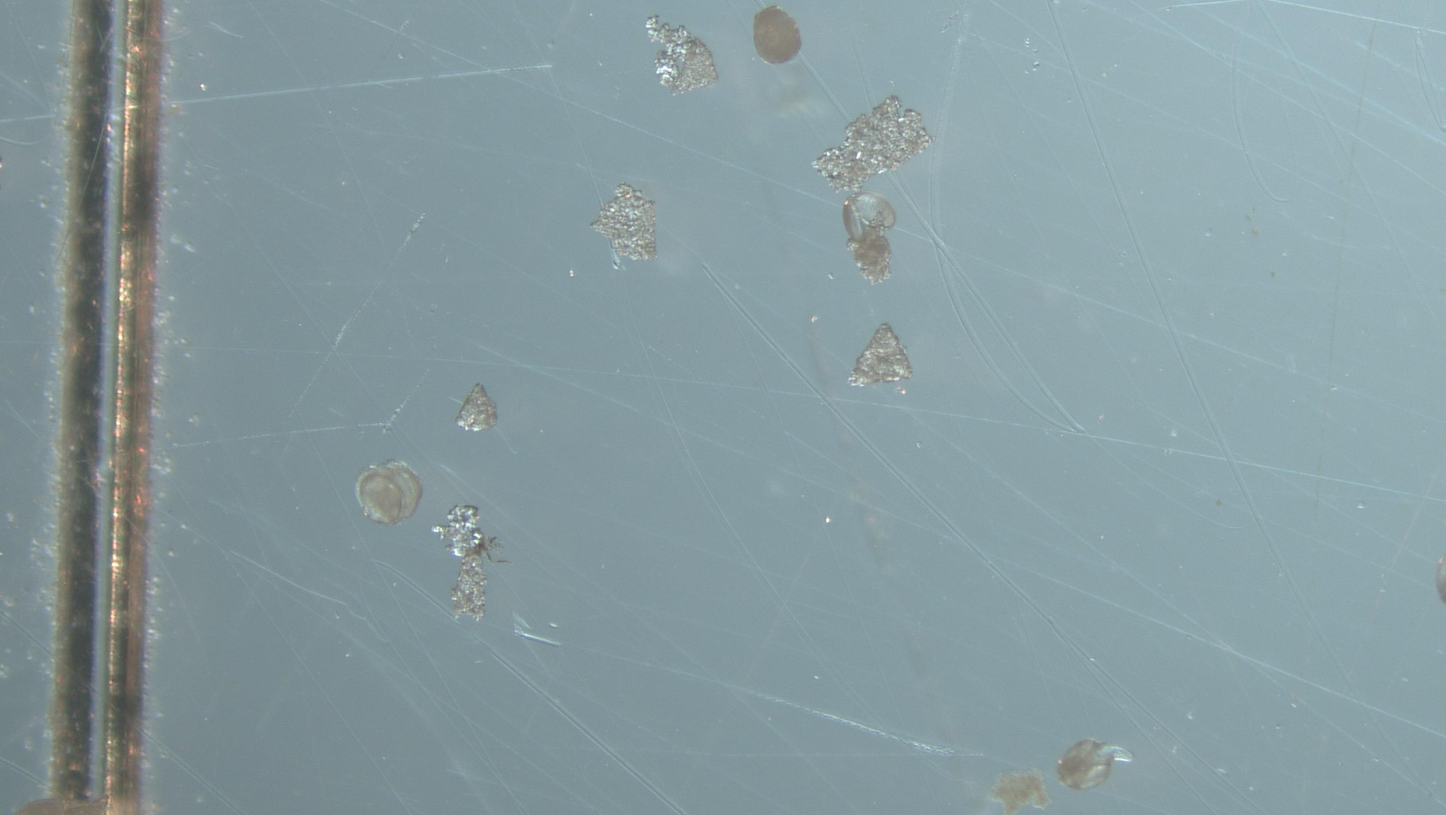live: (357, 462, 422, 525), (1057, 739, 1132, 790), (754, 7, 801, 64), (843, 192, 895, 241)
